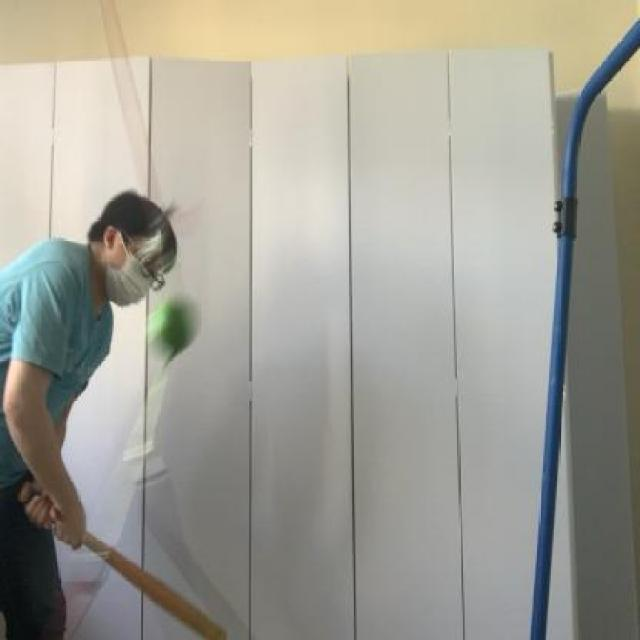baseball: (149, 292, 196, 361)
